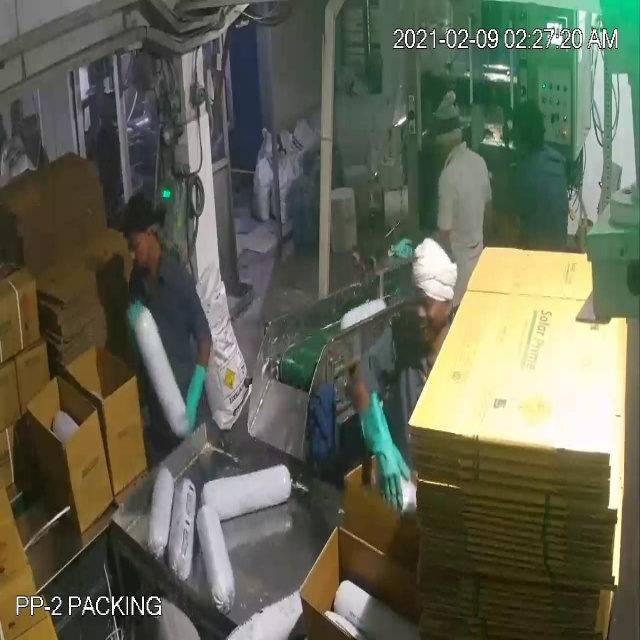Guantes: (355, 386, 414, 519), (178, 348, 212, 443), (116, 292, 155, 361)
